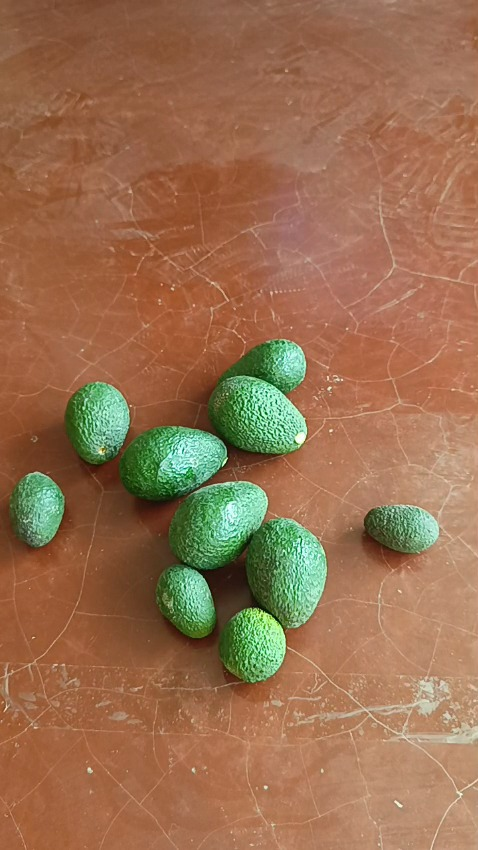Primera: (245, 517, 326, 627), (168, 480, 267, 568), (118, 425, 227, 499), (208, 375, 307, 454)
Segunda: (64, 380, 132, 462), (219, 340, 306, 394)
Tercera: (218, 606, 286, 680), (153, 561, 216, 637), (7, 470, 64, 546), (363, 504, 439, 553)
